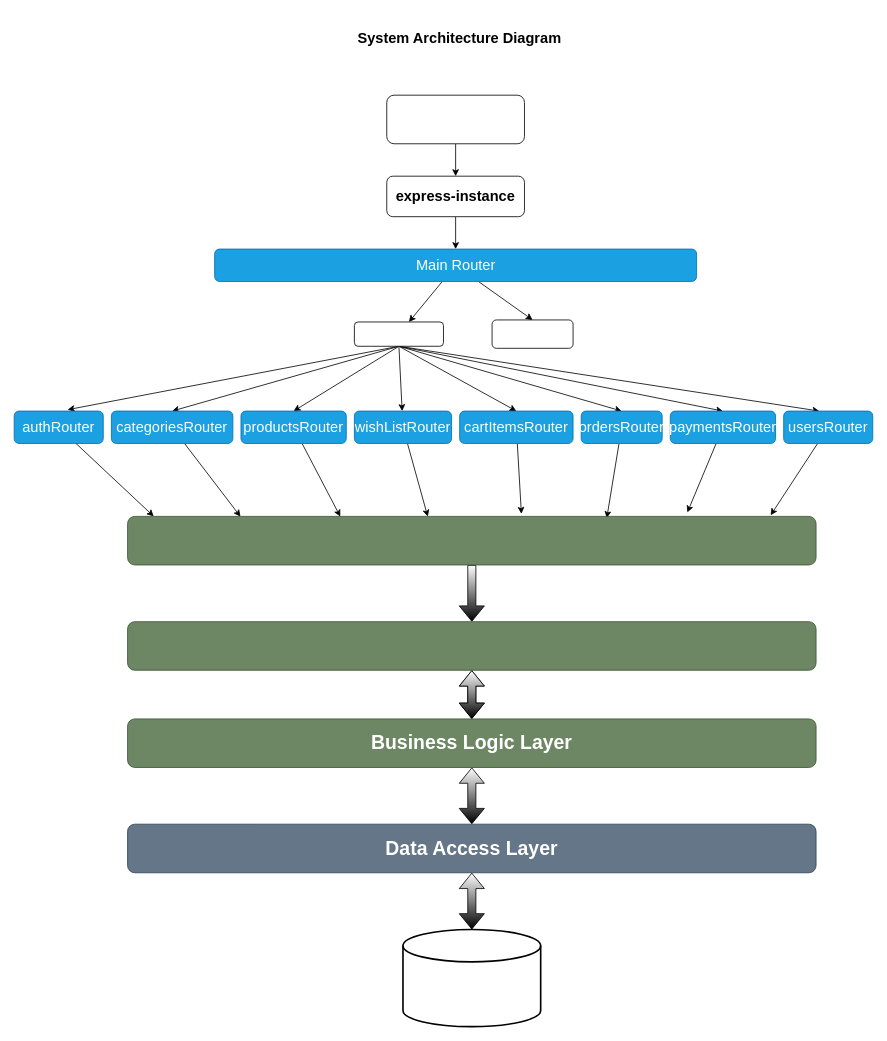
This 887x1041 diagram has some shape labels left out. Here are the shapes that lost their labels. From the top down, the centre of each, then its label:
At pixel 455 119: "server".
At pixel 398 333: "V1Router".
At pixel 532 333: "V2Router".
At pixel 471 540: "Validation Layer (For Data Integrity and Consistency )".
At pixel 471 645: "Controller Layer ( For Request Handling and Response Generation )".
At pixel 471 977: "DB".
